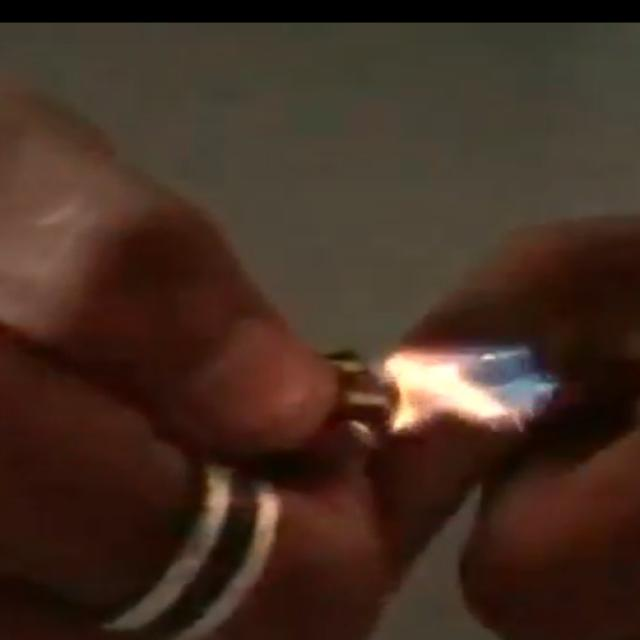fire: (381, 346, 557, 433)
